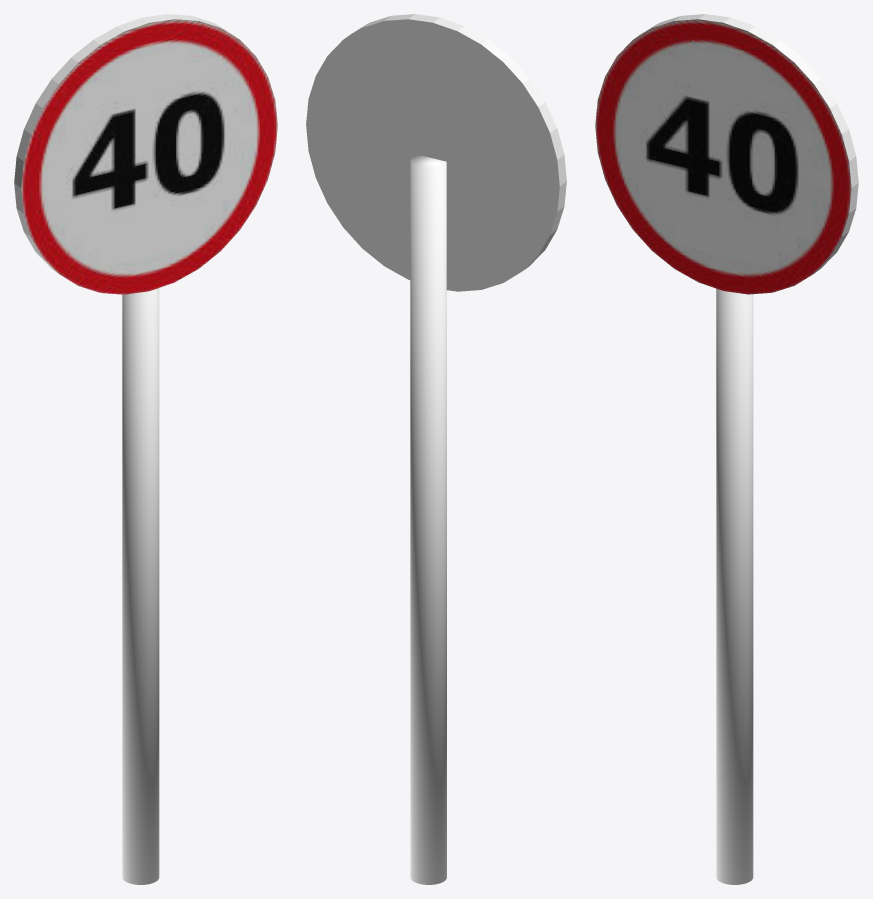
The model's file is MAXIMA 40.fbx.
3 renders of one model, left to right at view 1: azimuth 30°, elevation 25°; view 2: azimuth 150°, elevation 25°; view 3: azimuth 330°, elevation 25°, orthographic.
Parts seen in each view (by area): view 1: Cylinder.009; view 2: Cylinder.009; view 3: Cylinder.009.
Part boxes in pixels (x1,y1,x2,y2): Cylinder.009: [14, 14, 277, 884]; Cylinder.009: [306, 14, 566, 884]; Cylinder.009: [595, 14, 858, 884].
Size of the model in its own units: 80.06 by 257 by 10.47.
2 materials, 2 textured.
